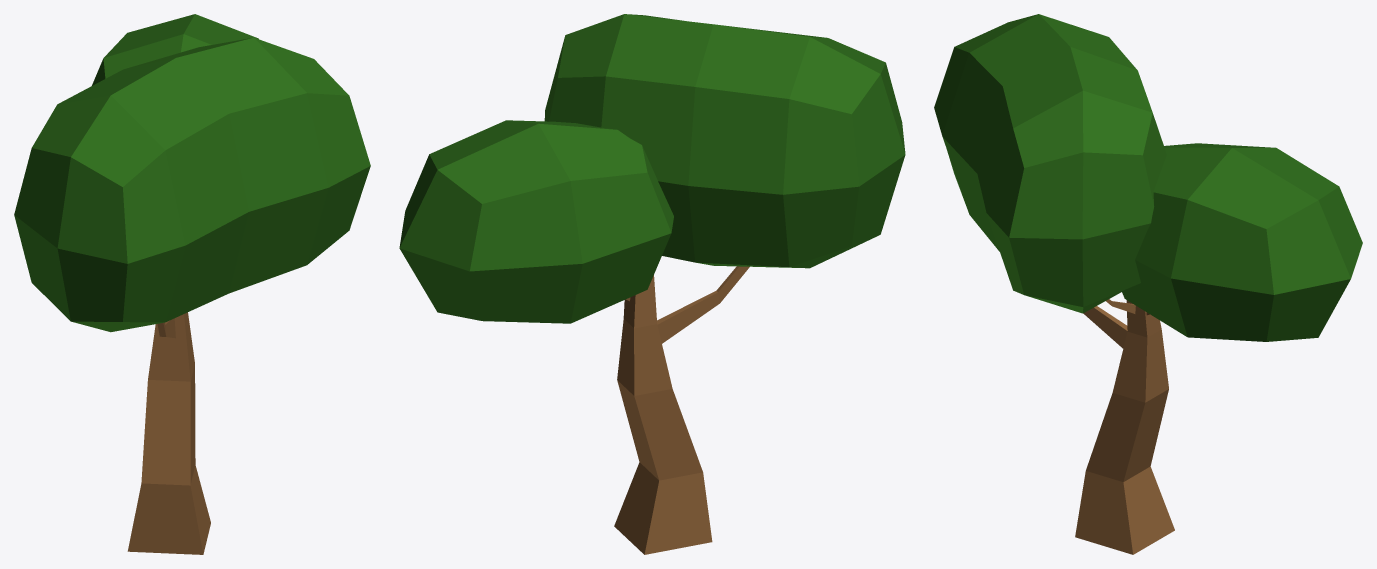
The model's file is Tree_1.fbx.
3 views of the same model, side by side, from view 1: azimuth 30°, elevation 25°; view 2: azimuth 150°, elevation 25°; view 3: azimuth 270°, elevation 25° (orthographic). The views are drawn at different scales.
Visible parts, largest first — view 1: Arbol2.018; view 2: Arbol2.018; view 3: Arbol2.018.
Part boxes in pixels (x1,y1,x2,y2): Arbol2.018: [14, 14, 370, 554]; Arbol2.018: [399, 14, 905, 554]; Arbol2.018: [934, 14, 1362, 554].
Size of the model in its own units: 84.77 by 112 by 91.61.
